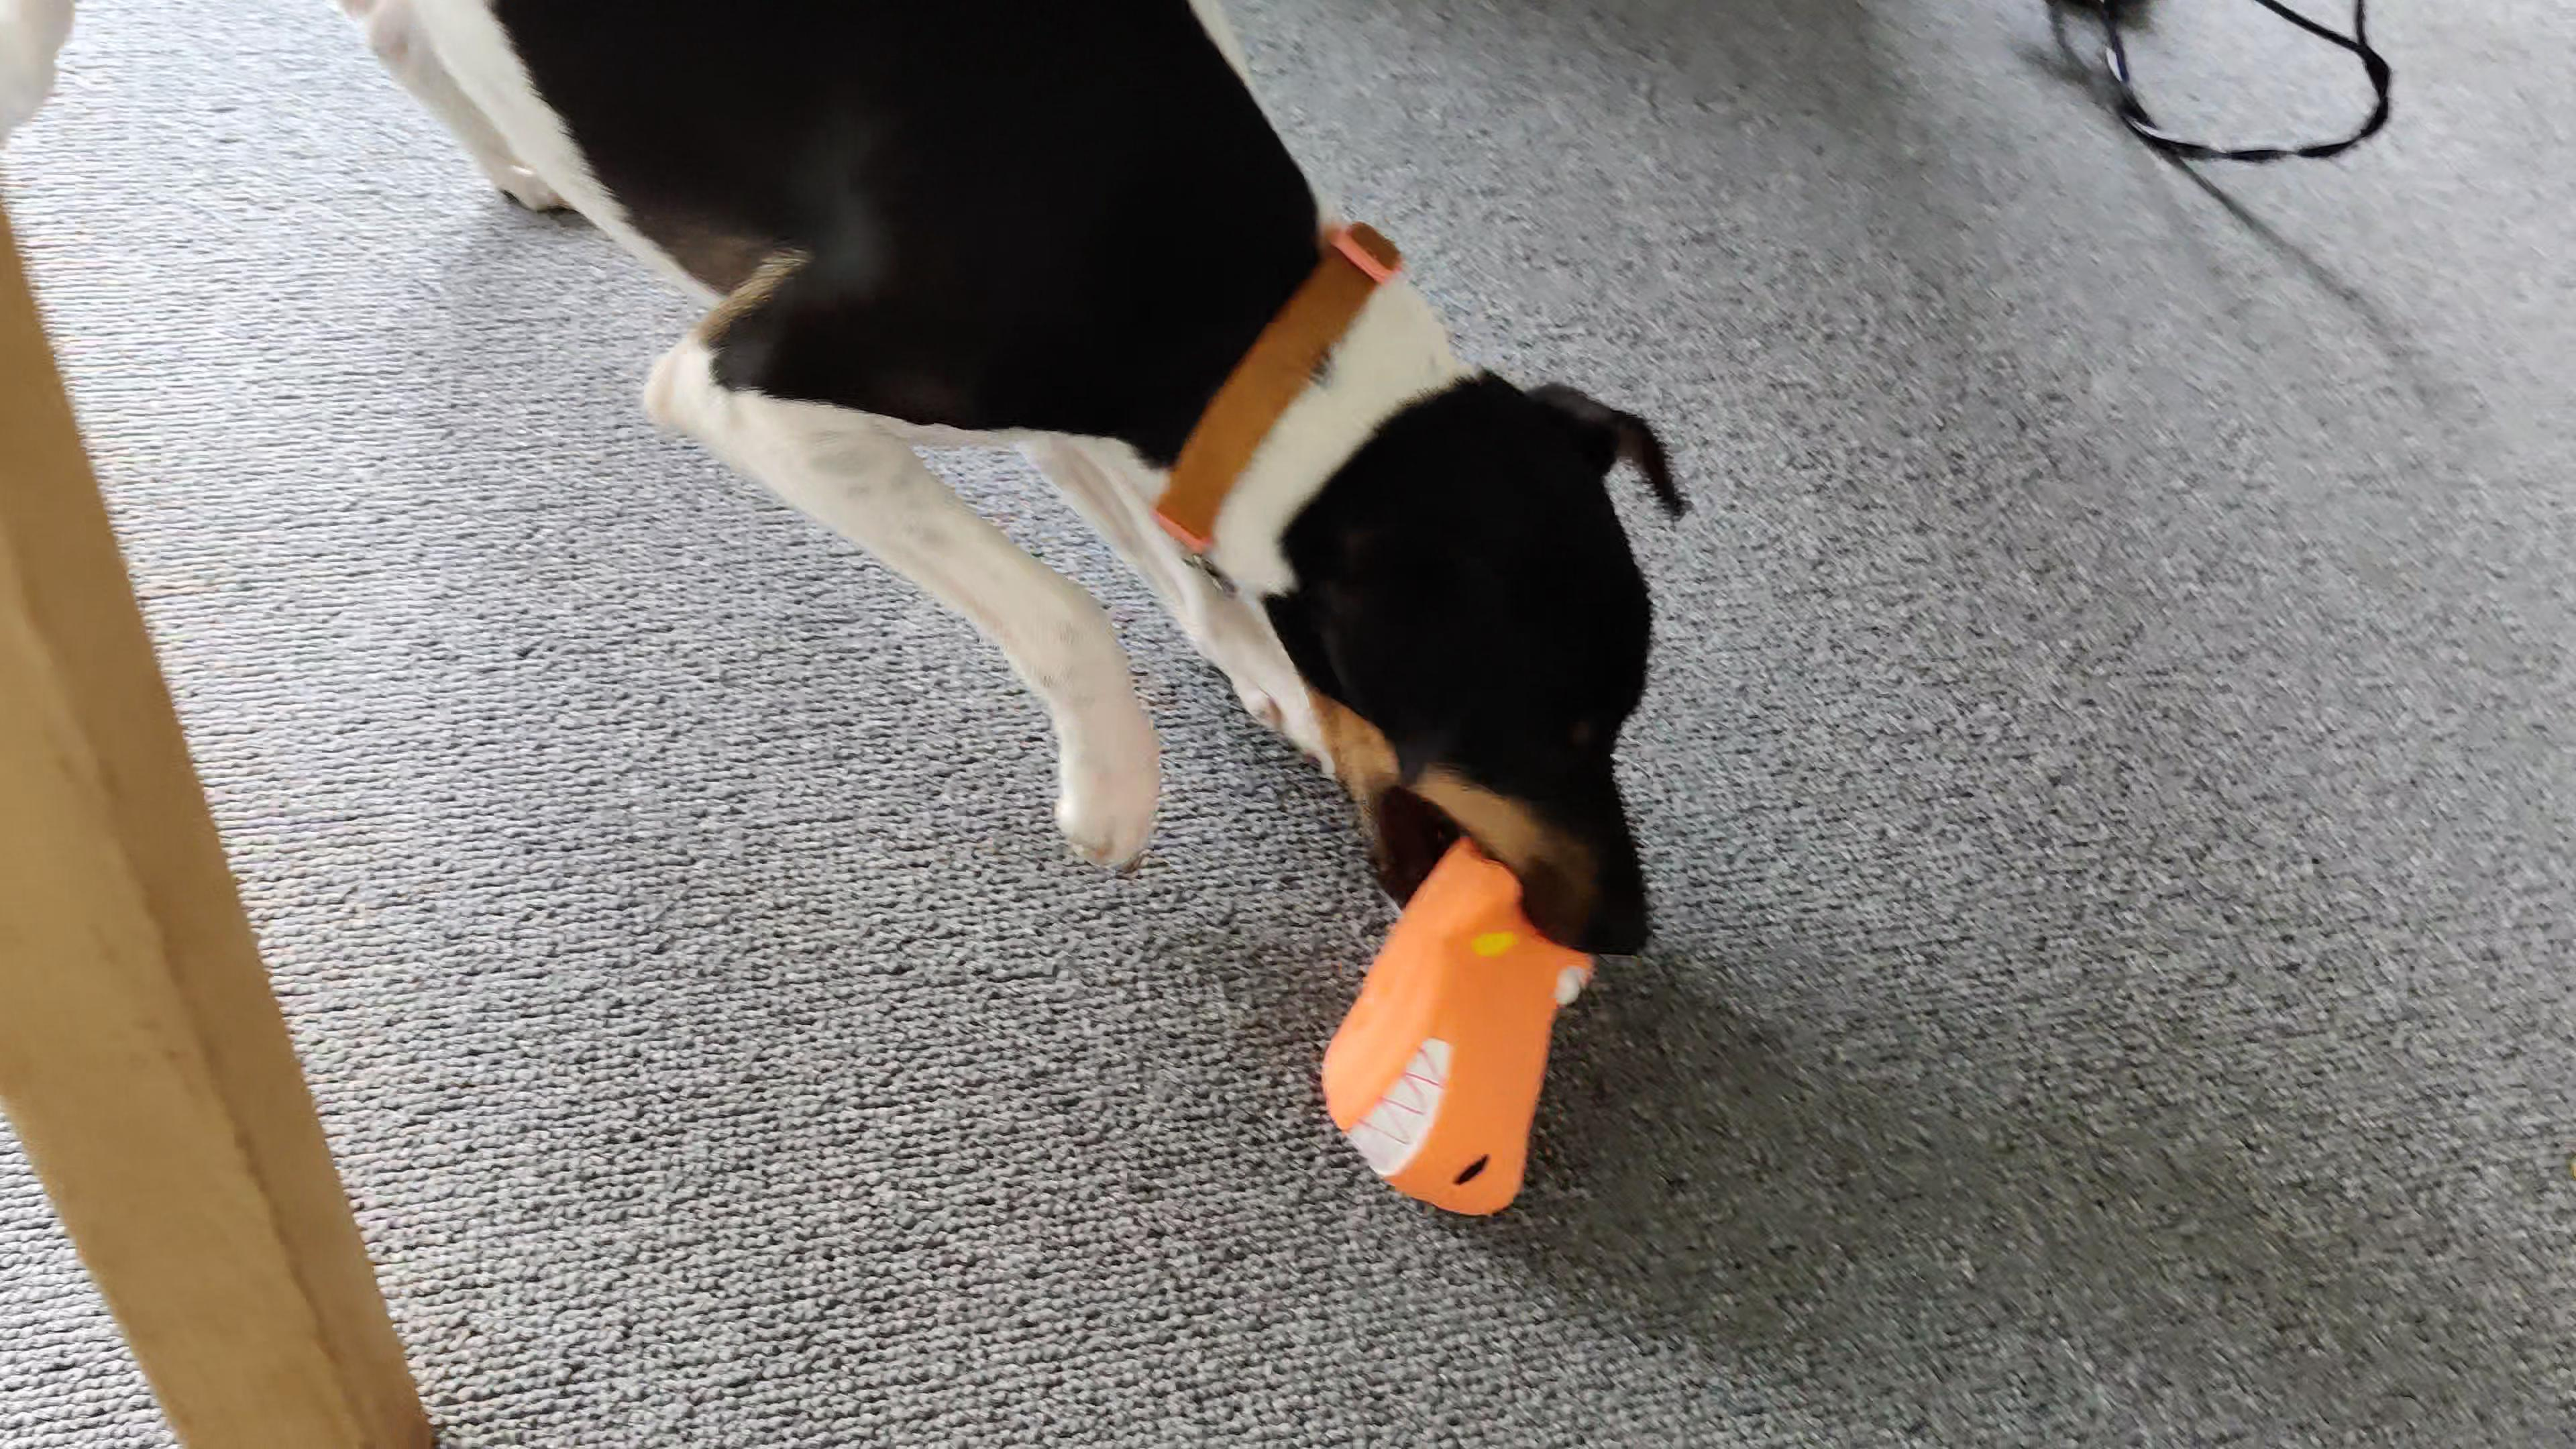Dog: (0, 0, 1693, 977)
